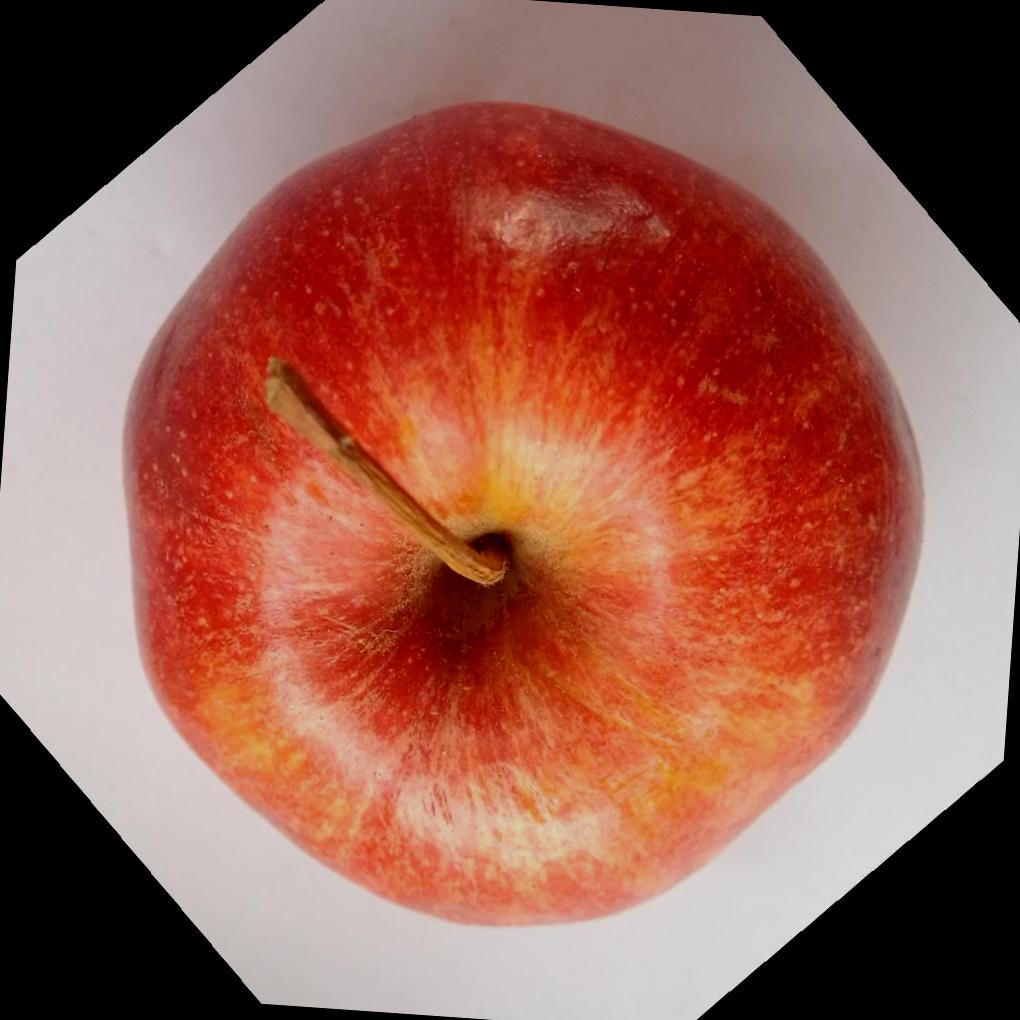FreshGuava: (119, 102, 927, 934)
